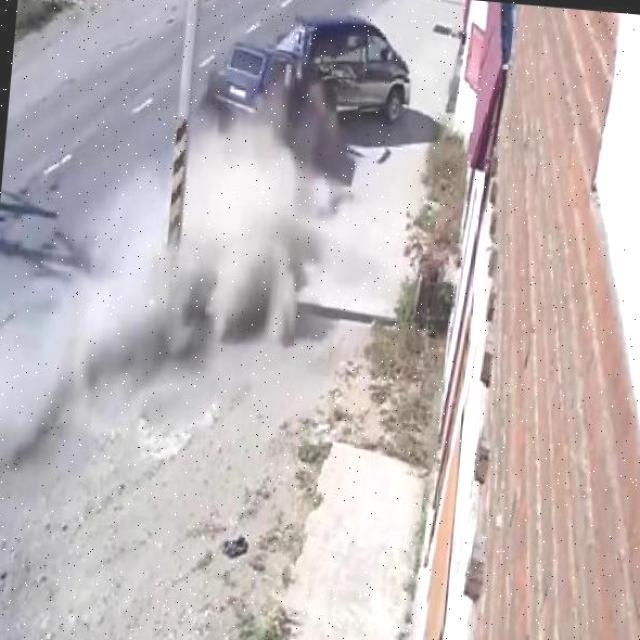accident: (231, 15, 368, 138)
